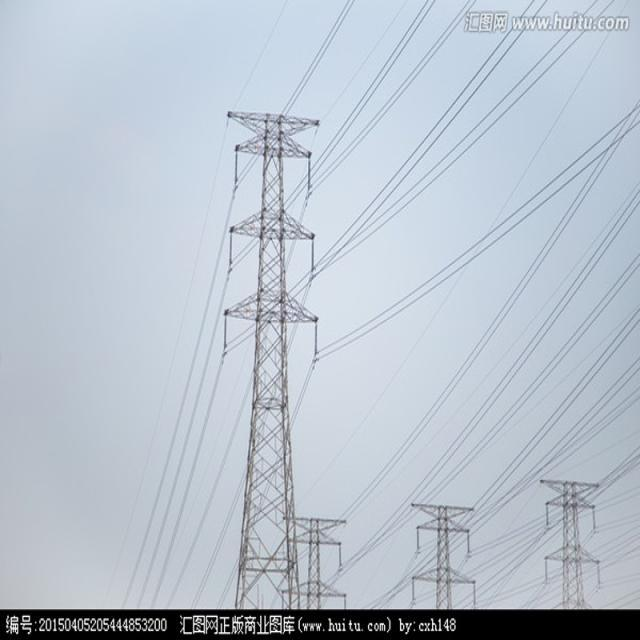non-critical vegetation: (220, 100, 340, 616), (534, 462, 610, 610), (286, 504, 352, 610), (411, 506, 474, 616)
